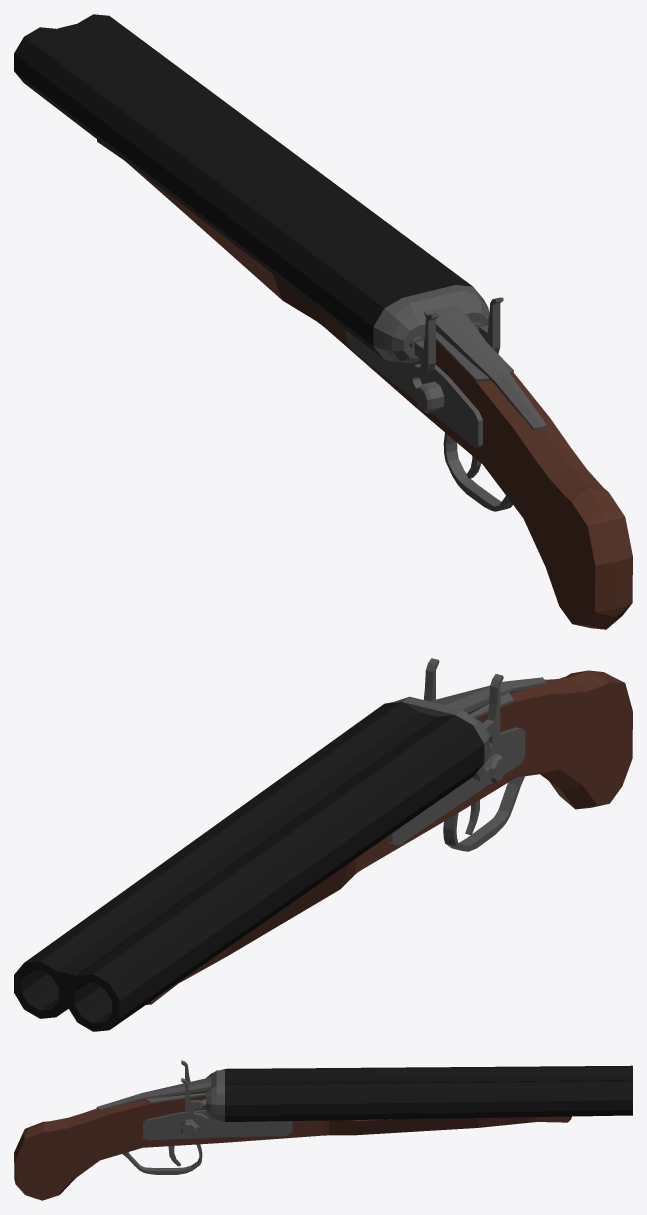
File: Sawn-Off Shotgun-2.glb
3 views of the same model, one above another, from view 1: azimuth 30°, elevation 25°; view 2: azimuth 150°, elevation 25°; view 3: azimuth 270°, elevation 25° (orthographic). The views are drawn at different scales.
Parts seen in each view (by area): view 1: Sawn-Off Shotgun-2; view 2: Sawn-Off Shotgun-2; view 3: Sawn-Off Shotgun-2.
Part boxes in pixels (box(x1,y1,x2,y2)): Sawn-Off Shotgun-2: box(14, 14, 632, 629); Sawn-Off Shotgun-2: box(14, 658, 632, 1031); Sawn-Off Shotgun-2: box(14, 1060, 632, 1200).
Size of the model in its own units: 7.06 by 14.08 by 60.58.
